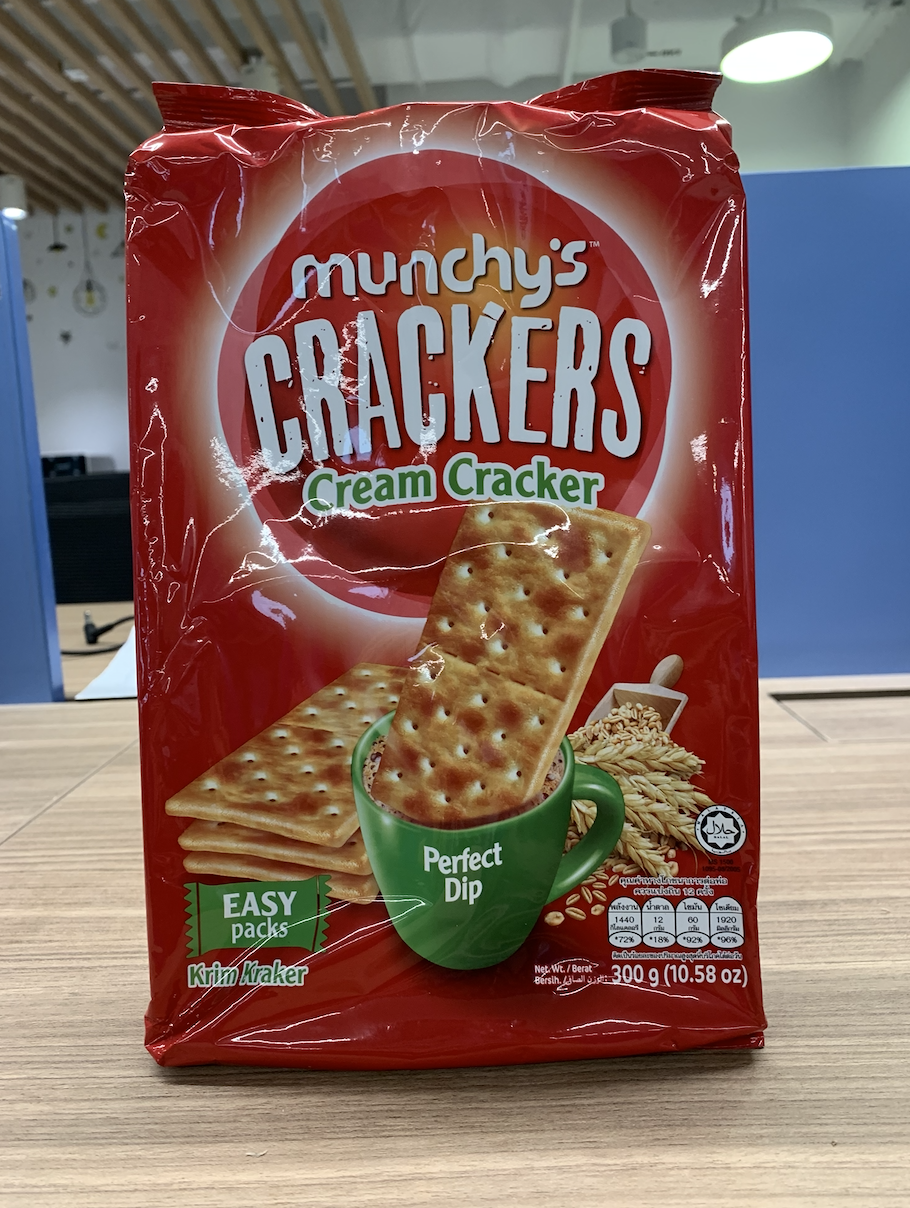crackers_150g: (155, 149, 757, 1011)
